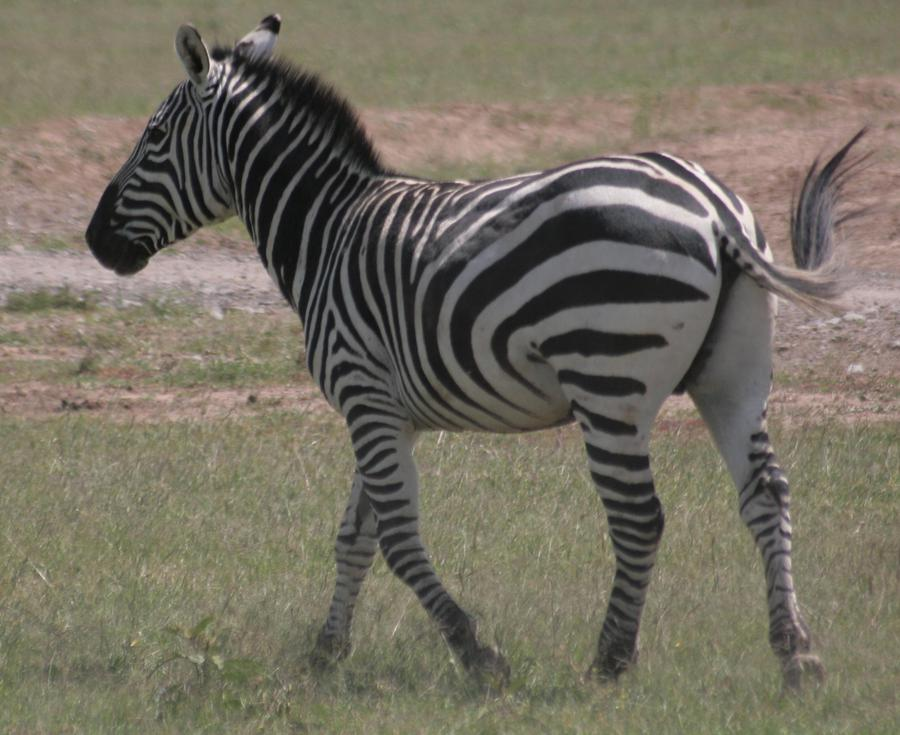zebra_plains: (279, 161, 689, 443)
